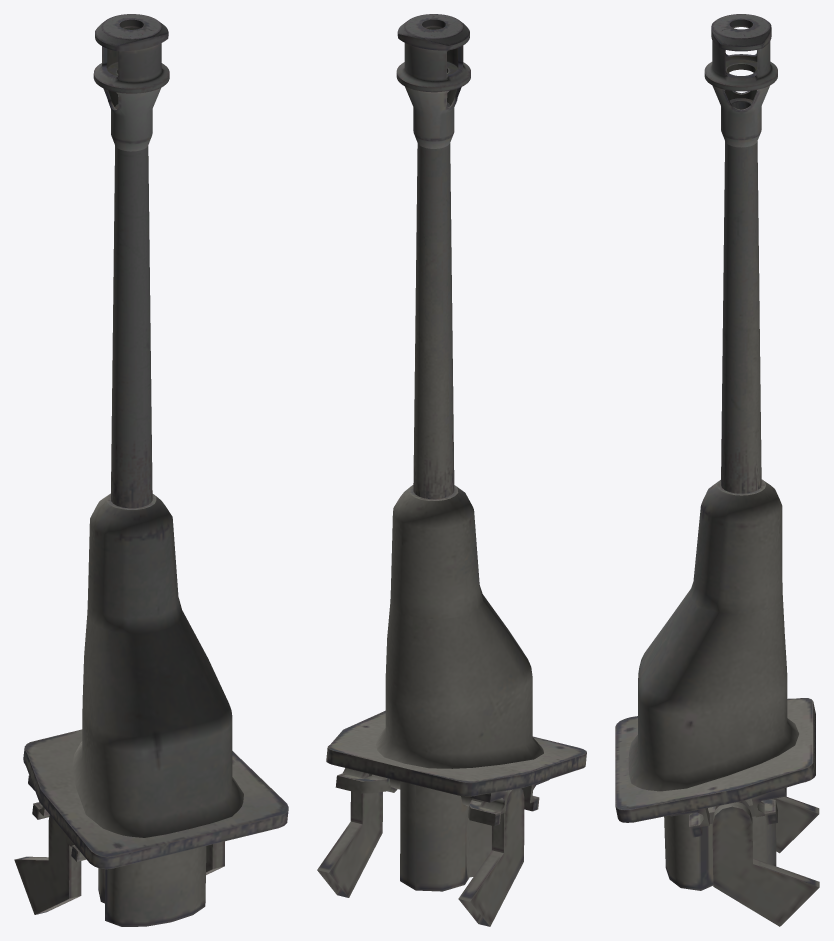
File: Gun_01.glb
3 views of the same model, side by side, from view 1: azimuth 30°, elevation 25°; view 2: azimuth 150°, elevation 25°; view 3: azimuth 270°, elevation 25° (orthographic). The views are drawn at different scales.
Parts seen in each view (by area): view 1: set_0_group_0; view 2: set_0_group_0; view 3: set_0_group_0.
Part boxes in pixels (bbox=[...]): set_0_group_0: bbox=[14, 14, 288, 926]; set_0_group_0: bbox=[317, 14, 586, 926]; set_0_group_0: bbox=[615, 14, 819, 926].
Size of the model in its own units: 0.8068 by 3.51 by 0.7514.
Materials: 1 (1 with a texture image).
